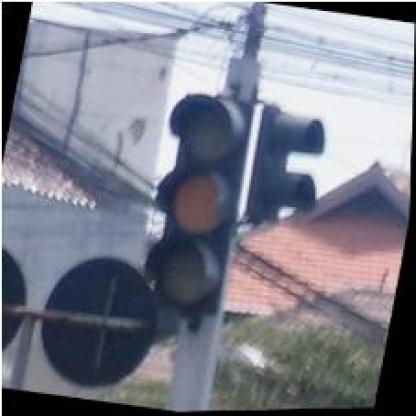yellow: (138, 84, 258, 319)
